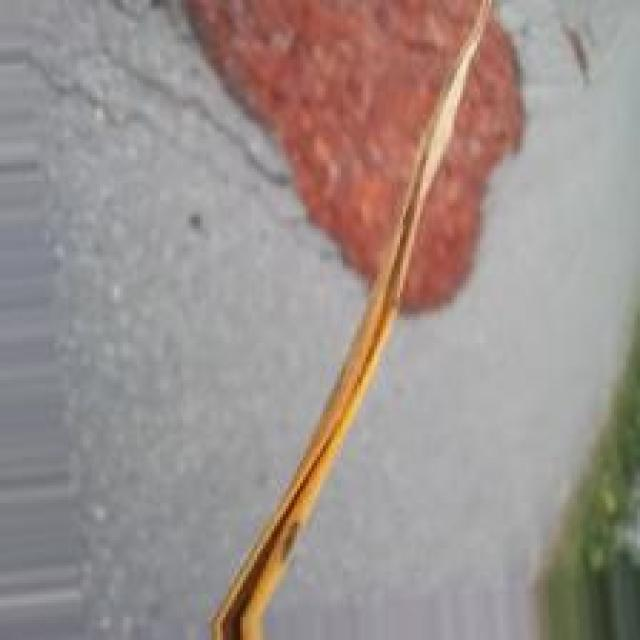Leaf_Scald: (211, 130, 451, 636)
